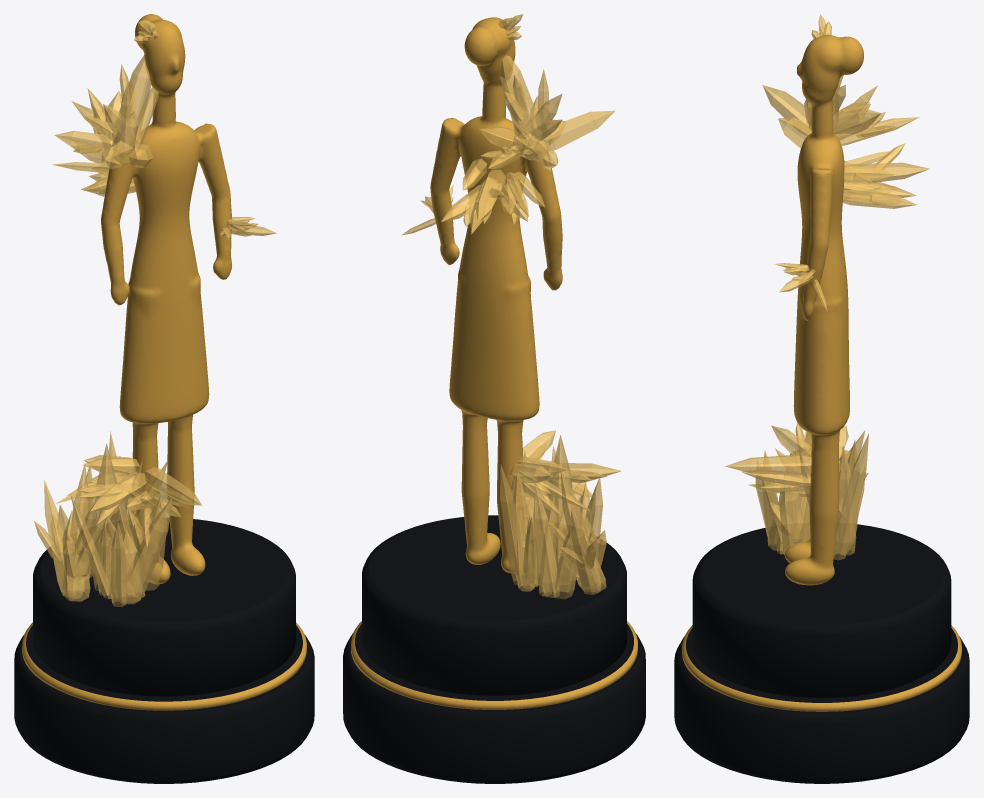
File: avatar_lady_stand.glb
3 views of the same model, side by side, from view 1: azimuth 30°, elevation 25°; view 2: azimuth 150°, elevation 25°; view 3: azimuth 270°, elevation 25° (orthographic). The views are drawn at different scales.
Parts seen in each view (by area): view 1: Pedestal, Lady sculpt, Six dense crystal colonies; view 2: Pedestal, Lady sculpt, Six dense crystal colonies; view 3: Pedestal, Lady sculpt, Six dense crystal colonies.
Part boxes in pixels (bbox=[...]): Pedestal: bbox=[14, 518, 314, 783]; Lady sculpt: bbox=[101, 14, 231, 584]; Six dense crystal colonies: bbox=[34, 20, 276, 606]; Pedestal: bbox=[343, 515, 645, 783]; Lady sculpt: bbox=[430, 17, 562, 573]; Six dense crystal colonies: bbox=[401, 14, 621, 599]; Pedestal: bbox=[674, 524, 969, 783]; Lady sculpt: bbox=[785, 35, 863, 585]; Six dense crystal colonies: bbox=[725, 14, 929, 560].
Bounding box in the file's own units: 0.3833 × 1 × 0.3833.
